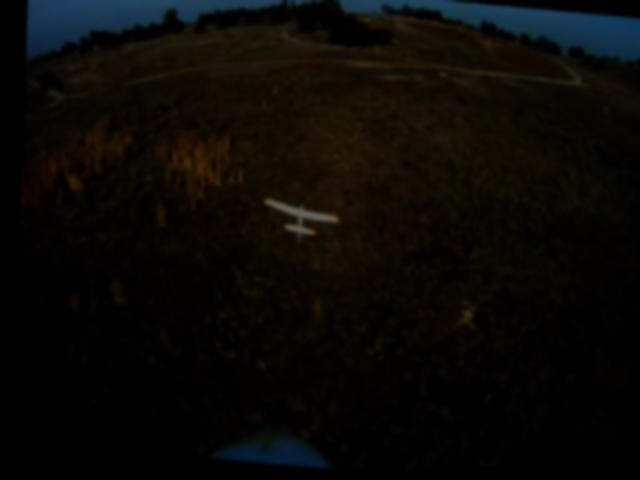uav: (249, 187, 346, 256)
